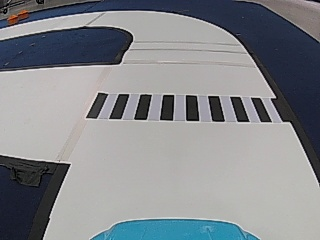CrossWalk: (84, 92, 282, 124)
